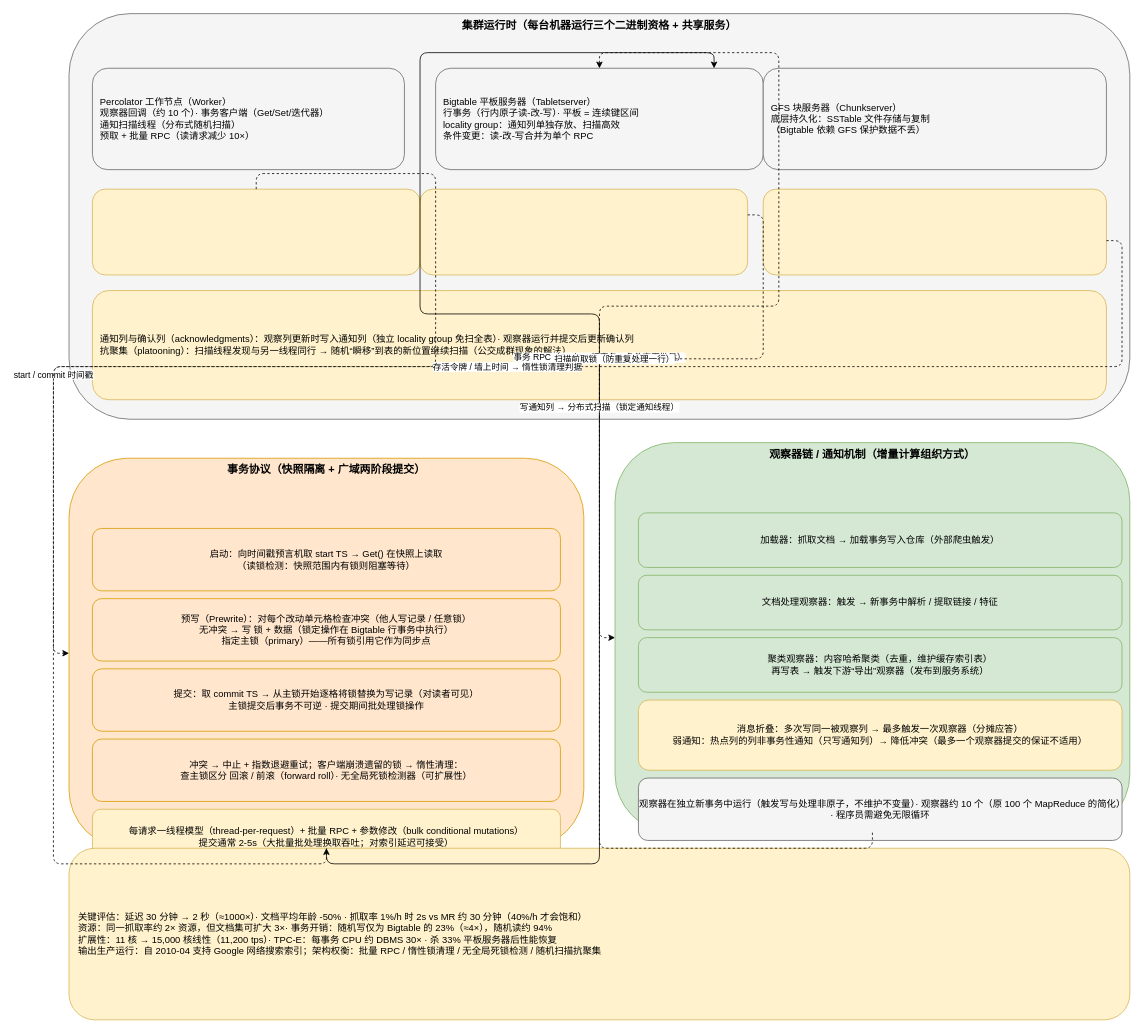
The diagram is 1143 pixels wide and 1034 high, and some of its shapes have lost their labels. Each missing label, with the centre of its shape:
Chubby 轻量锁服务（存活令牌） 工作节点注册令牌（退出自动删除） + 锁中墙上时间 → 判定对方已死 → 惰性清理锁: point (934, 231)
时间戳预言机（Timestamp Oracle） 严格递增时间戳（快照隔离所需） 批量分配区间·内存应答·约 200 万 ts/s: point (256, 231)
轻量级锁服务（建议性、无持久化） 工作器扫描某行前取锁，防止并发运行同一观察器: point (583, 231)
